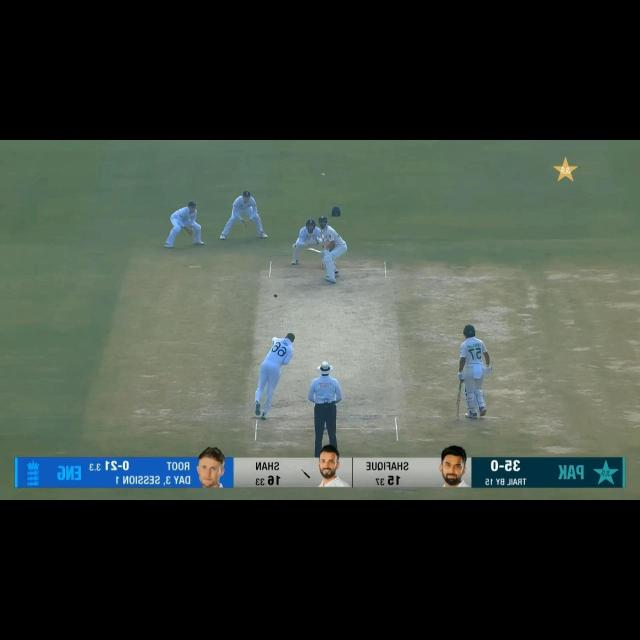bat: (454, 392, 462, 421), (304, 246, 322, 254)
toe: (452, 413, 460, 422), (305, 246, 311, 253)
